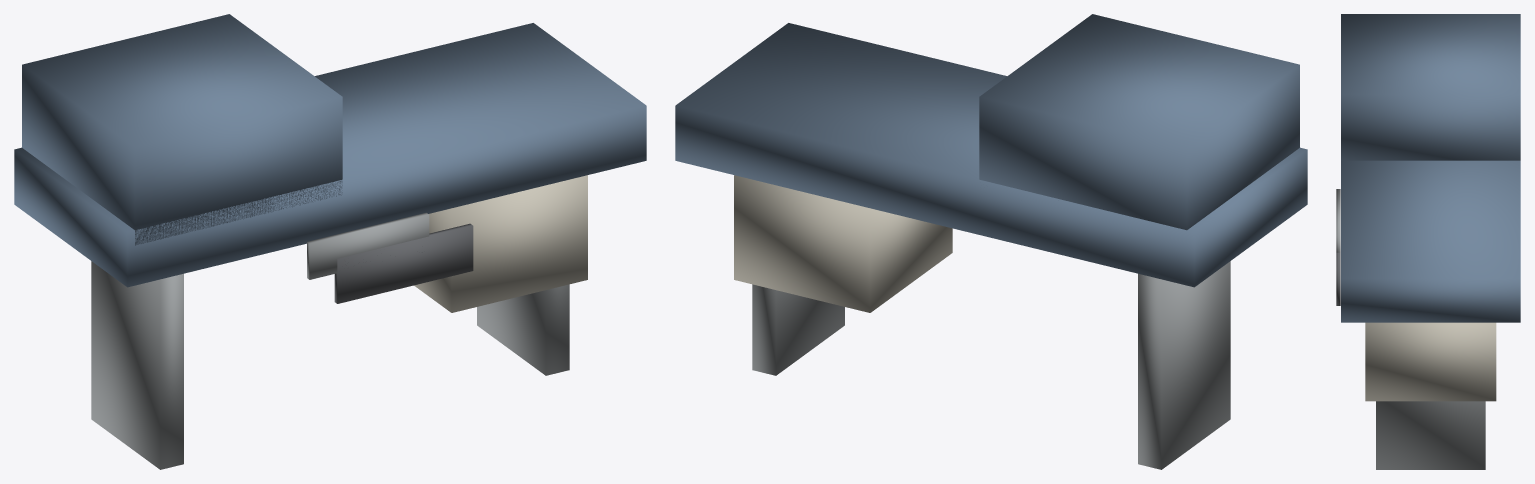
File: exam_table__weathered.glb
The picture shows the model from 3 angles, left to right: view 1: azimuth 30°, elevation 25°; view 2: azimuth 150°, elevation 25°; view 3: azimuth 270°, elevation 25°; orthographic projection. The views are drawn at different scales.
Parts seen in each view (by area): view 1: world; view 2: world; view 3: world.
Part boxes in pixels (left/top/right/bottom): world: left=14, top=14, right=646, bottom=469; world: left=675, top=14, right=1307, bottom=469; world: left=1336, top=14, right=1520, bottom=469.
Bounding box in the file's own units: 1.75 × 1.13 × 0.6775.
